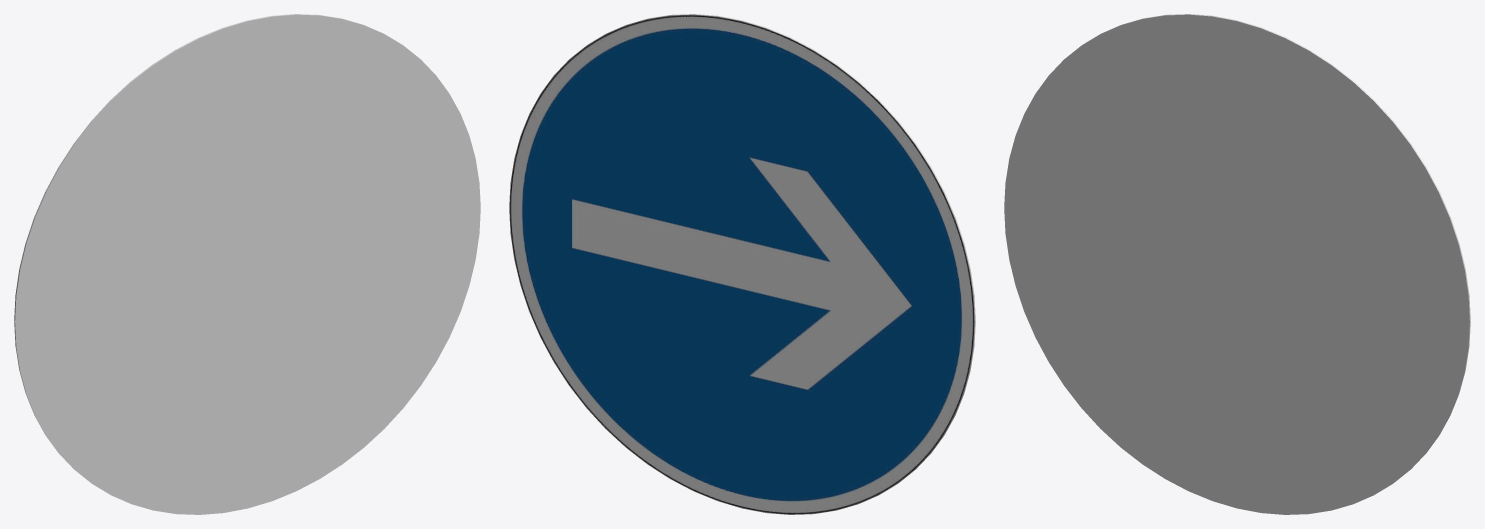
3 views of the same model, side by side, from view 1: azimuth 30°, elevation 25°; view 2: azimuth 150°, elevation 25°; view 3: azimuth 330°, elevation 25° (orthographic).
Visible parts, largest first — view 1: Circle; view 2: Circle; view 3: Circle.
Boxes of the visible parts, bbox=[...] form: Circle: bbox=[14, 14, 480, 514]; Circle: bbox=[509, 14, 975, 514]; Circle: bbox=[1004, 14, 1470, 514].
Size of the model in its own units: 0.6 by 0.6 by 0.002.
2 materials, 1 textured.
